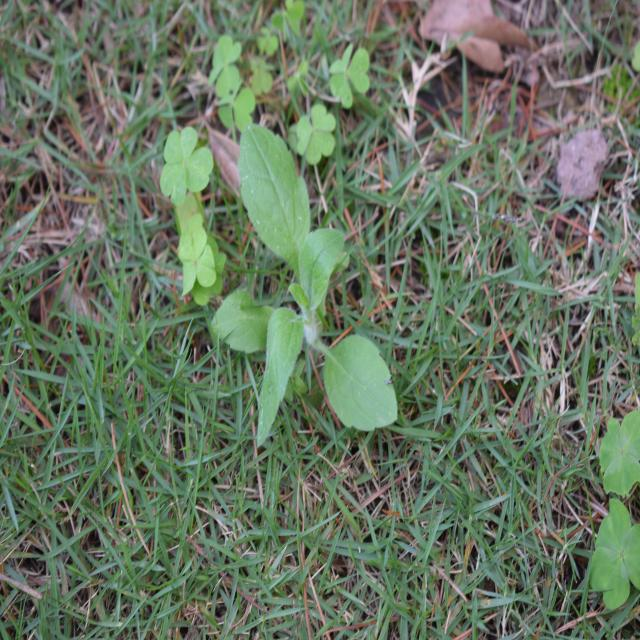horseweed: (222, 103, 390, 432)
